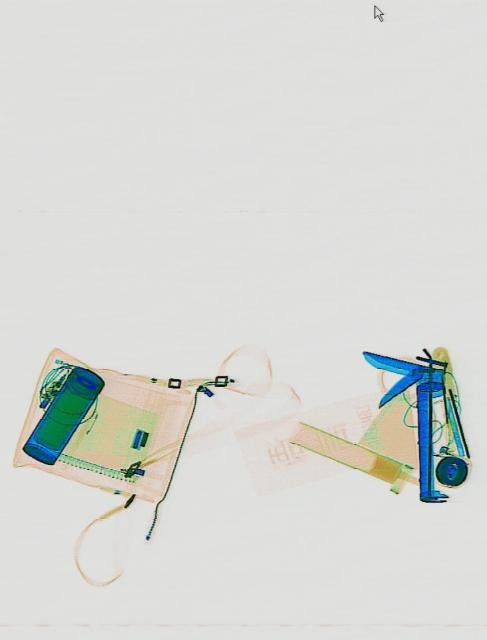Knife: (361, 348, 447, 504)
